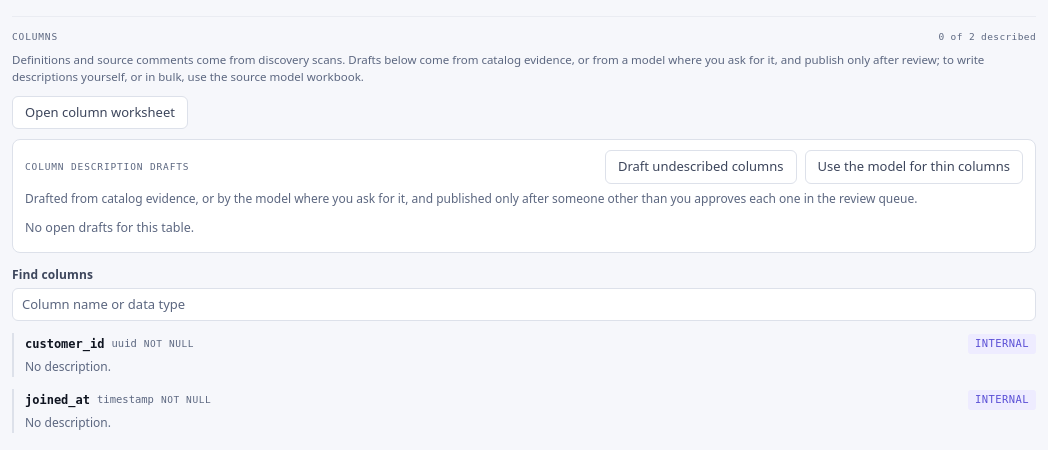
Scenario: finds columns by name or physical type and distinguishes no matches from no columns
Expected: the text "customer_id" is shown, [25, 335, 104, 353]
Type "timestamp" into the field labelled "Find columns". click: coordinates (524, 304)
box: [12, 288, 1036, 321]
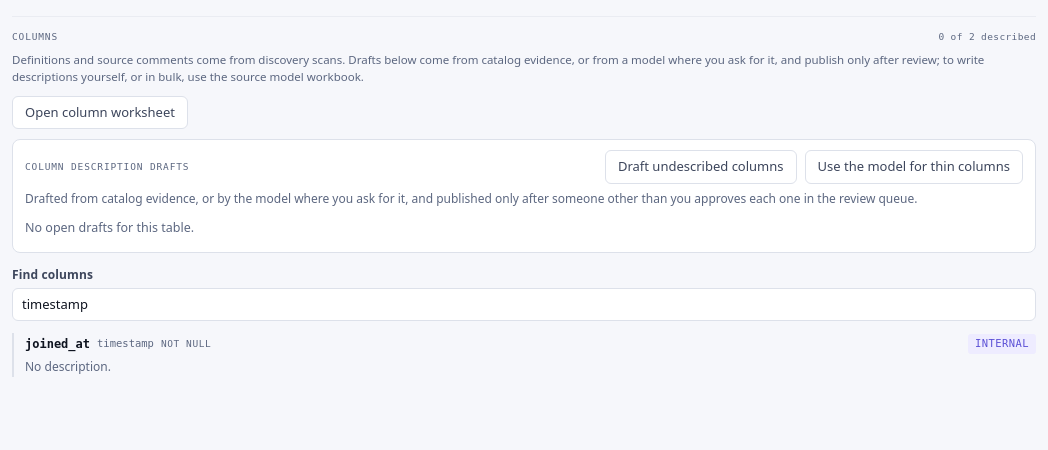
Expected: the text "joined_at" is shown, [25, 335, 90, 353]
Expected: the text "customer_id" is gone
Replace the text in the field labelled "Find columns" with "not-a-column". click: coordinates (524, 304)
box: [12, 288, 1036, 321]
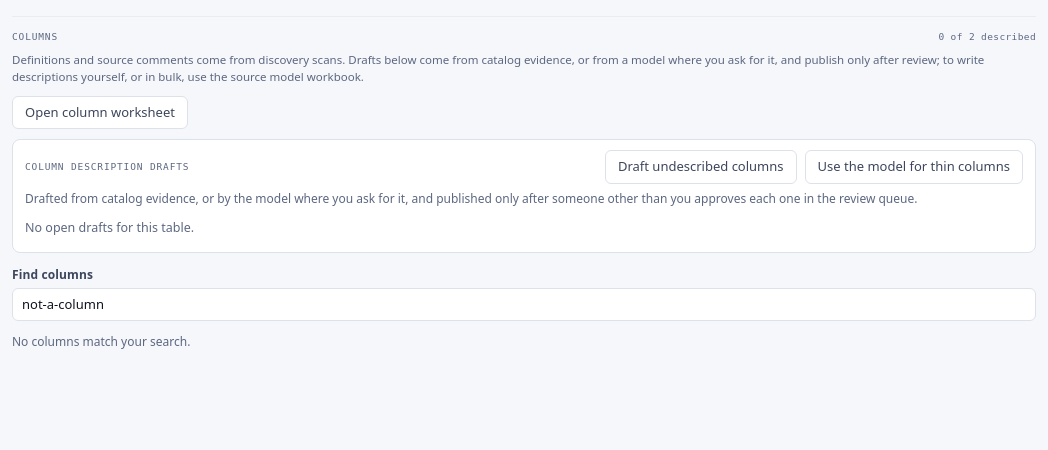
Expected: the text "No columns match your search." is shown, [12, 333, 190, 350]
